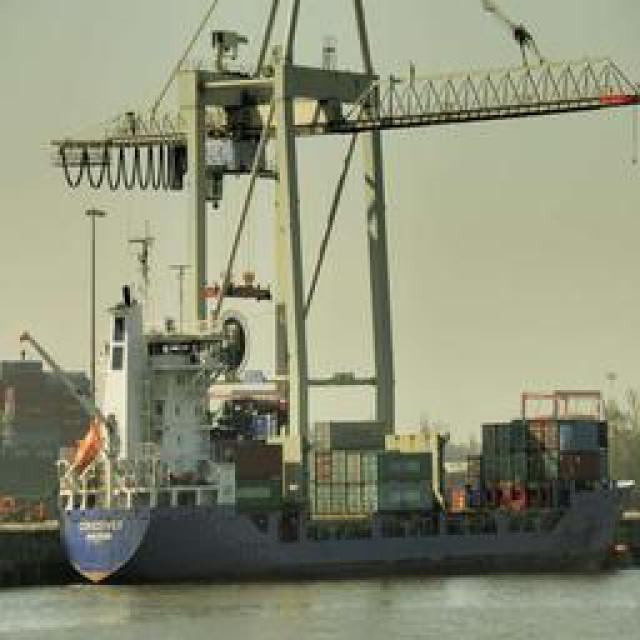Ship: (72, 501, 635, 584)
